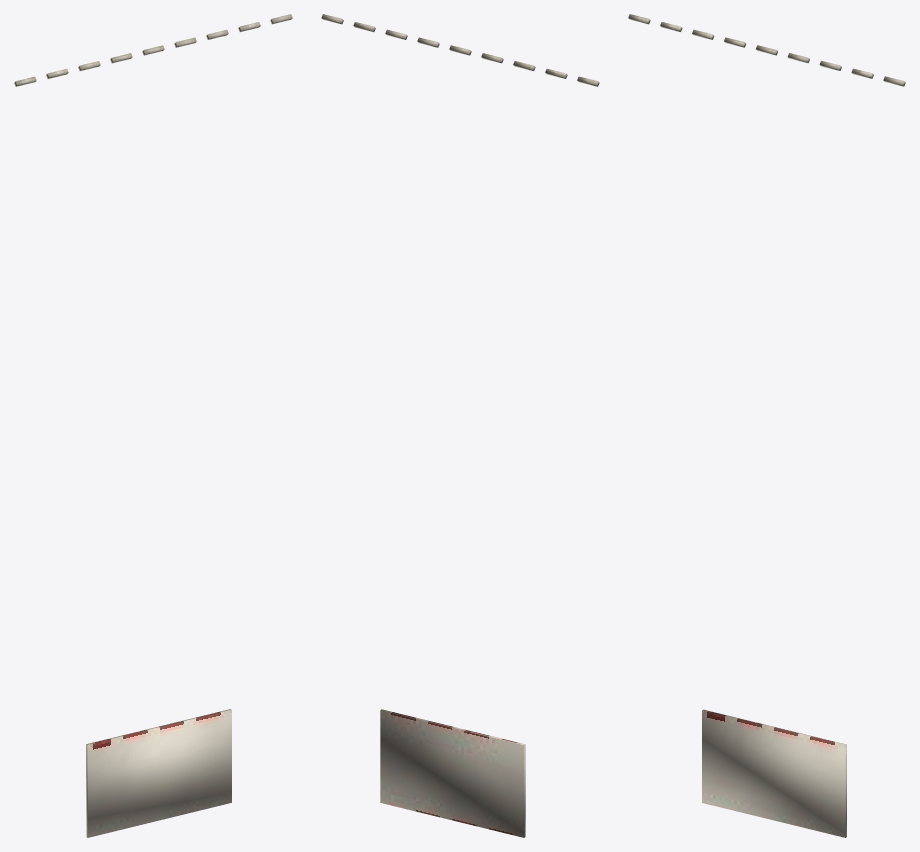
The model's file is sled_book_leaf_trim.glb.
3 renders of one model, left to right at view 1: azimuth 30°, elevation 25°; view 2: azimuth 150°, elevation 25°; view 3: azimuth 330°, elevation 25°, orthographic.
Parts seen in each view (by area): view 1: prop_sled_book_leaf_trim_felt; view 2: prop_sled_book_leaf_trim_felt; view 3: prop_sled_book_leaf_trim_felt.
Boxes of the visible parts, <box> form: prop_sled_book_leaf_trim_felt: <box>14,14,292,837</box>; prop_sled_book_leaf_trim_felt: <box>321,14,599,837</box>; prop_sled_book_leaf_trim_felt: <box>628,14,905,837</box>.
Size of the model in its own units: 0.497 by 1.33 by 0.01.
2 materials, 1 textured.
